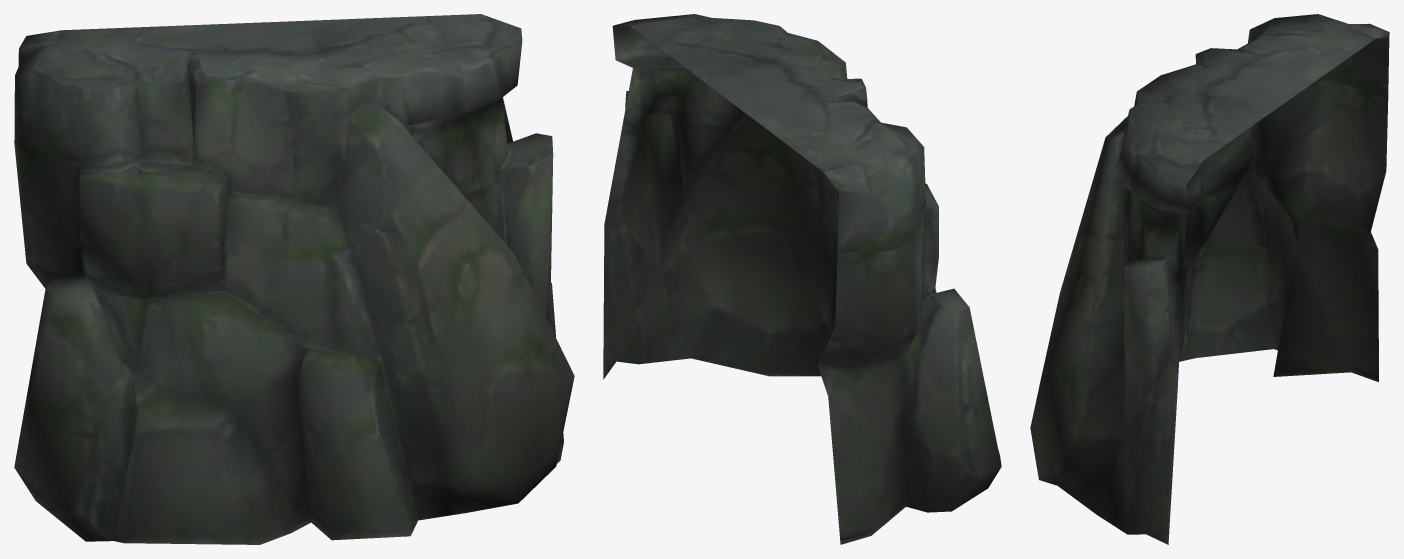
The model's file is moba_weibianshi_01.FBX.
3 views of the same model, side by side, from view 1: azimuth 30°, elevation 25°; view 2: azimuth 150°, elevation 25°; view 3: azimuth 270°, elevation 25° (orthographic). The views are drawn at different scales.
Visible parts, largest first — view 1: defaultdetachobj139; view 2: defaultdetachobj139; view 3: defaultdetachobj139.
Part boxes in pixels (x1,y1,x2,y2): defaultdetachobj139: (14, 14, 574, 544); defaultdetachobj139: (603, 14, 1001, 544); defaultdetachobj139: (1030, 14, 1389, 544).
Size of the model in its own units: 15.4 by 13.1 by 11.73.
